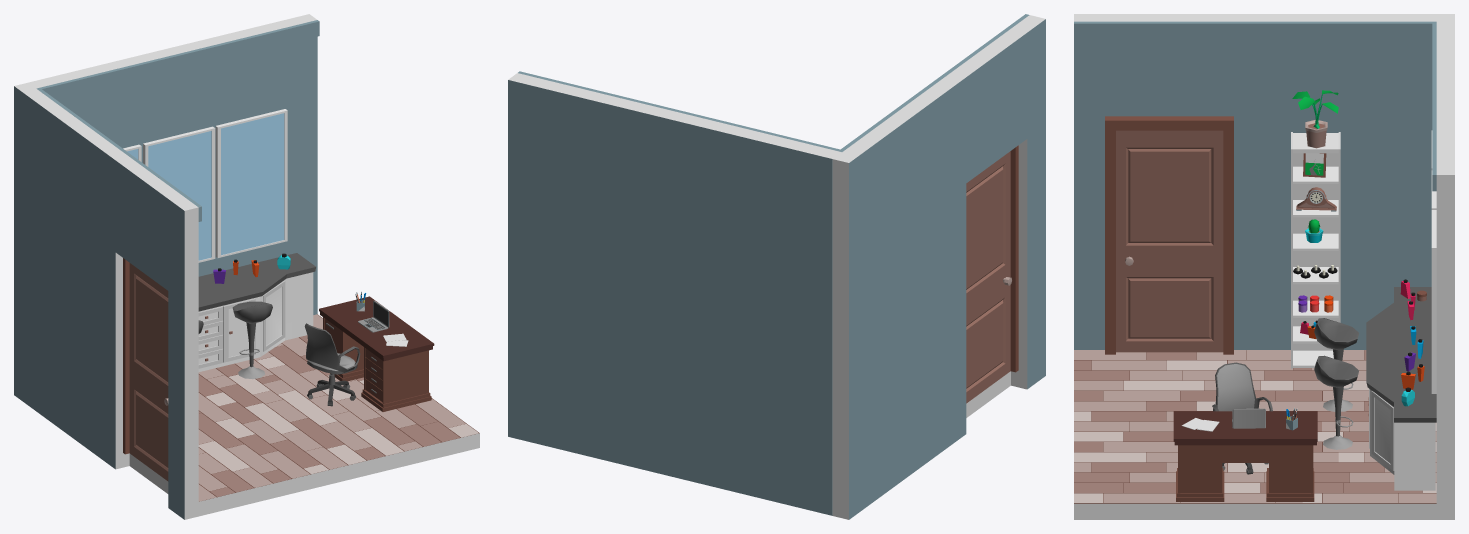
File: room_8.glb
The picture shows the model from 3 angles, left to right: view 1: azimuth 30°, elevation 25°; view 2: azimuth 150°, elevation 25°; view 3: azimuth 270°, elevation 25°; orthographic projection. The views are drawn at different scales.
Parts seen in each view (by area): view 1: Walls_116.007, Walls_116.006, floor_018.002, Walls_116.008, picture_054.003, kitchen_table_019.001, door_009.001, office_table_005.001, Walls_056.003, Walls_116.009, picture_054.002, Walls_111.001 (+5 smaller); view 2: Walls_116.006, Walls_116.007, door_009.001, Walls_116.008, Walls_116.009, door_010.001, Walls_111.001, Walls_111.002, Walls_056.003; view 3: Walls_116.007, floor_018.002, door_009.001, kitchen_table_019.001, Walls_116.008, office_table_005.001, Walls_116.009, Walls_116.006, Walls_056.003, shelf_053.003, door_010.001, Walls_111.002 (+9 smaller).
Boxes of the visible parts, x1=… form: Walls_116.007: x1=14, y1=82, x2=129, y2=469; Walls_116.006: x1=28, y1=14, x2=317, y2=314; floor_018.002: x1=198, y1=314, x2=478, y2=501; Walls_116.008: x1=168, y1=195, x2=198, y2=519; picture_054.003: x1=215, y1=109, x2=287, y2=257; kitchen_table_019.001: x1=198, y1=253, x2=315, y2=371; door_009.001: x1=129, y1=263, x2=168, y2=481; office_table_005.001: x1=319, y1=296, x2=434, y2=411; Walls_056.003: x1=129, y1=314, x2=479, y2=516; Walls_116.009: x1=115, y1=157, x2=181, y2=290; picture_054.002: x1=143, y1=126, x2=215, y2=262; Walls_111.001: x1=36, y1=20, x2=319, y2=99; Walls_116.006: x1=508, y1=73, x2=841, y2=515; Walls_116.007: x1=833, y1=73, x2=966, y2=519; door_009.001: x1=966, y1=151, x2=1011, y2=403; Walls_116.008: x1=1011, y1=15, x2=1045, y2=389; Walls_116.009: x1=950, y1=29, x2=1027, y2=182; door_010.001: x1=1010, y1=145, x2=1018, y2=372; Walls_111.001: x1=518, y1=71, x2=843, y2=151; Walls_111.002: x1=841, y1=14, x2=1029, y2=150; Walls_056.003: x1=966, y1=371, x2=1010, y2=417; Walls_116.007: x1=1228, y1=14, x2=1454, y2=349; floor_018.002: x1=1074, y1=350, x2=1436, y2=502; door_009.001: x1=1116, y1=130, x2=1223, y2=352; kitchen_table_019.001: x1=1366, y1=287, x2=1436, y2=490; Walls_116.008: x1=1074, y1=14, x2=1110, y2=349; office_table_005.001: x1=1173, y1=411, x2=1317, y2=501; Walls_116.009: x1=1110, y1=14, x2=1228, y2=116; Walls_116.006: x1=1436, y1=21, x2=1454, y2=519; Walls_056.003: x1=1074, y1=350, x2=1436, y2=519; shelf_053.003: x1=1291, y1=132, x2=1340, y2=368; door_010.001: x1=1105, y1=116, x2=1233, y2=354; Walls_111.002: x1=1074, y1=21, x2=1432, y2=39.
Bounding box in the file's own units: 4.2 × 4.2 × 4.2.
Materials: 1 (1 with a texture image).
